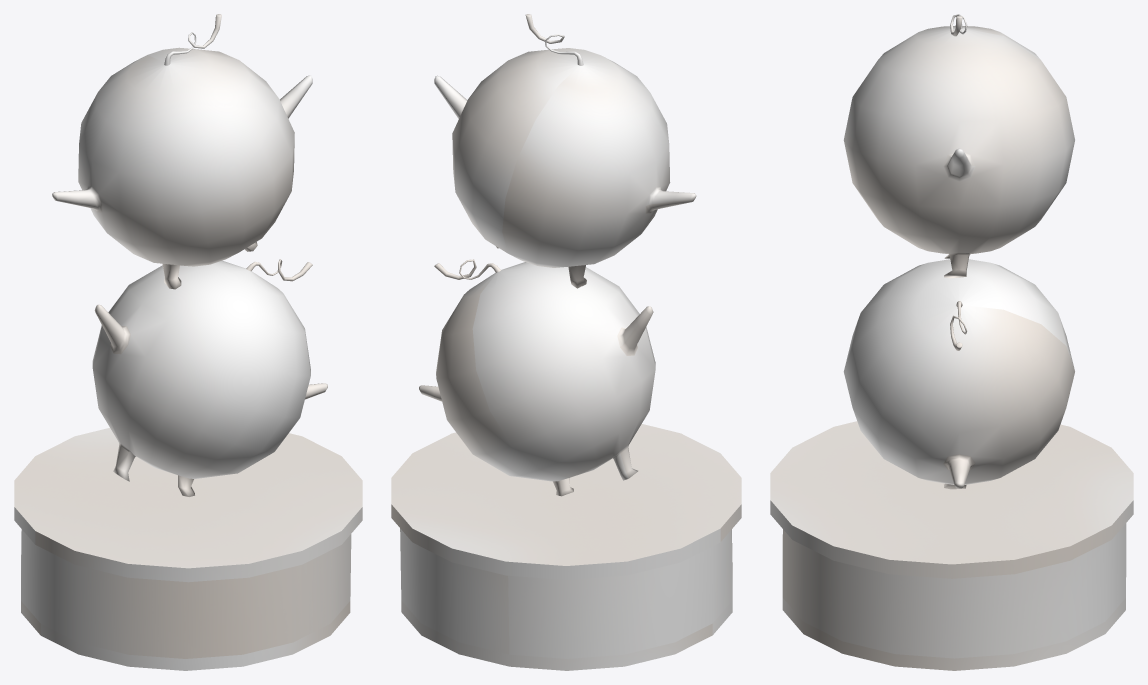
Rendered from Statue_3.fbx.
The picture shows the model from 3 angles, left to right: view 1: azimuth 30°, elevation 25°; view 2: azimuth 150°, elevation 25°; view 3: azimuth 270°, elevation 25°; orthographic projection. The views are drawn at different scales.
Parts seen in each view (by area): view 1: childGrapeBody2; view 2: childGrapeBody2; view 3: childGrapeBody2.
Boxes of the visible parts, left/top/right/bottom form: childGrapeBody2: left=14, top=14, right=362, bottom=670; childGrapeBody2: left=391, top=14, right=741, bottom=670; childGrapeBody2: left=770, top=14, right=1133, bottom=670.
Size of the model in its own units: 14.3 by 25.62 by 14.08.
Materials: 1 (1 with a texture image).
